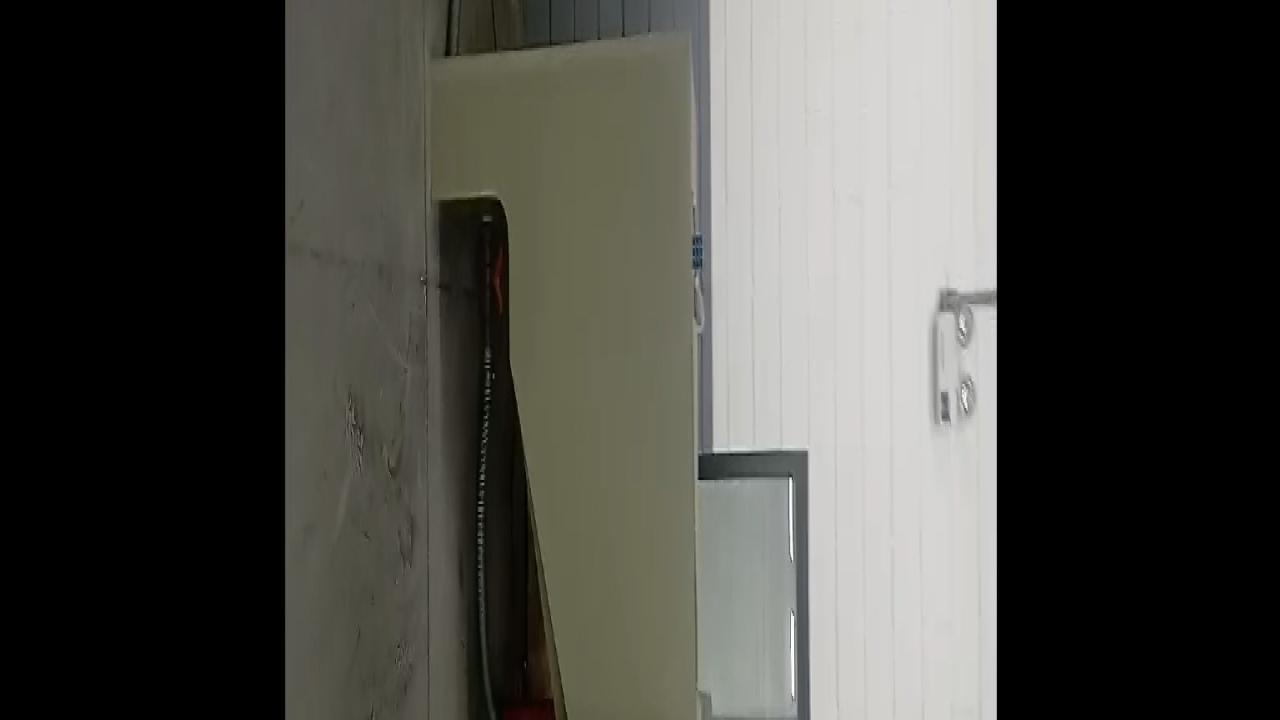Cube: (692, 234, 702, 274)
